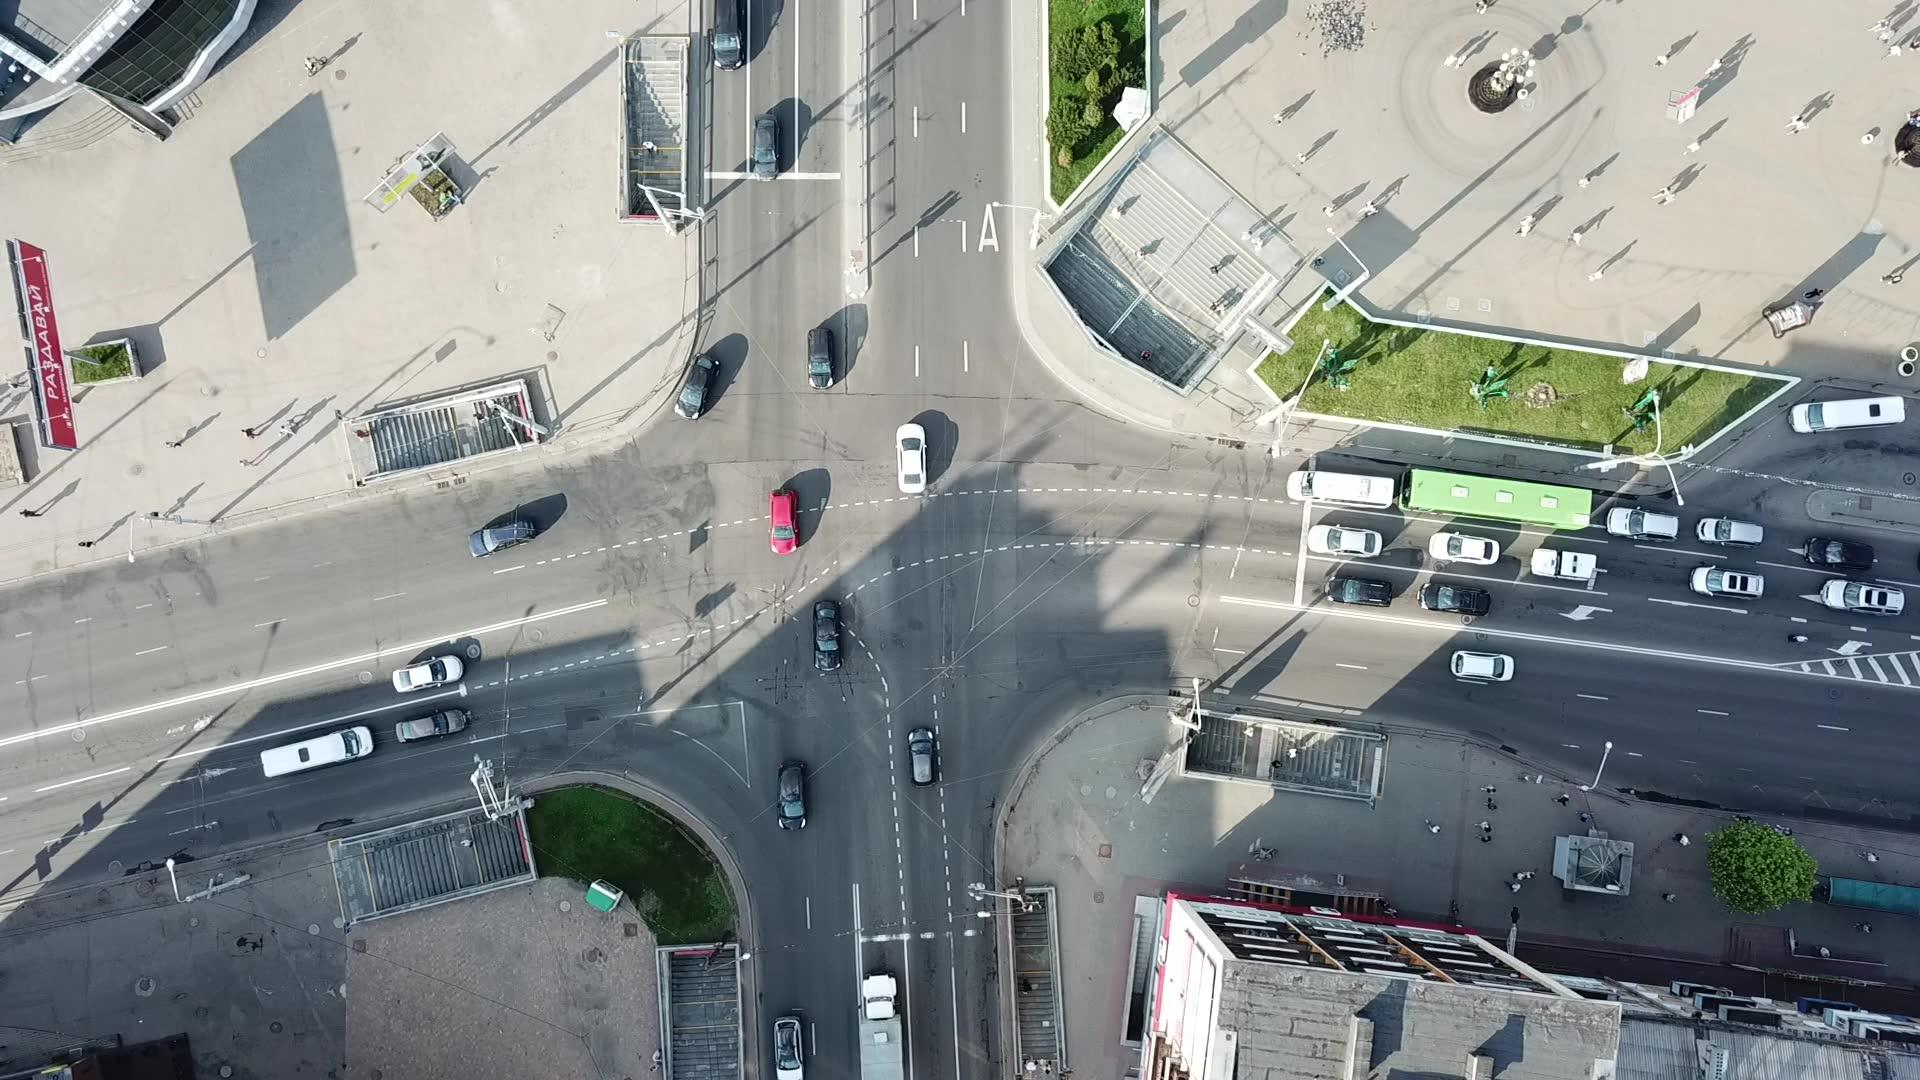car: (1820, 578, 1905, 618), (674, 352, 719, 419), (392, 654, 464, 694), (1689, 564, 1768, 600), (1803, 534, 1873, 574), (465, 520, 533, 560), (1428, 530, 1499, 566), (1606, 506, 1677, 542), (1307, 524, 1381, 558), (1416, 582, 1491, 615), (394, 708, 465, 742), (775, 760, 808, 832), (1532, 545, 1597, 580), (1325, 574, 1393, 607), (771, 1011, 804, 1077), (1696, 516, 1764, 547), (895, 423, 926, 493), (812, 601, 843, 671), (906, 727, 939, 789), (1451, 649, 1513, 682), (752, 113, 781, 182), (767, 489, 798, 553), (807, 328, 837, 389)
